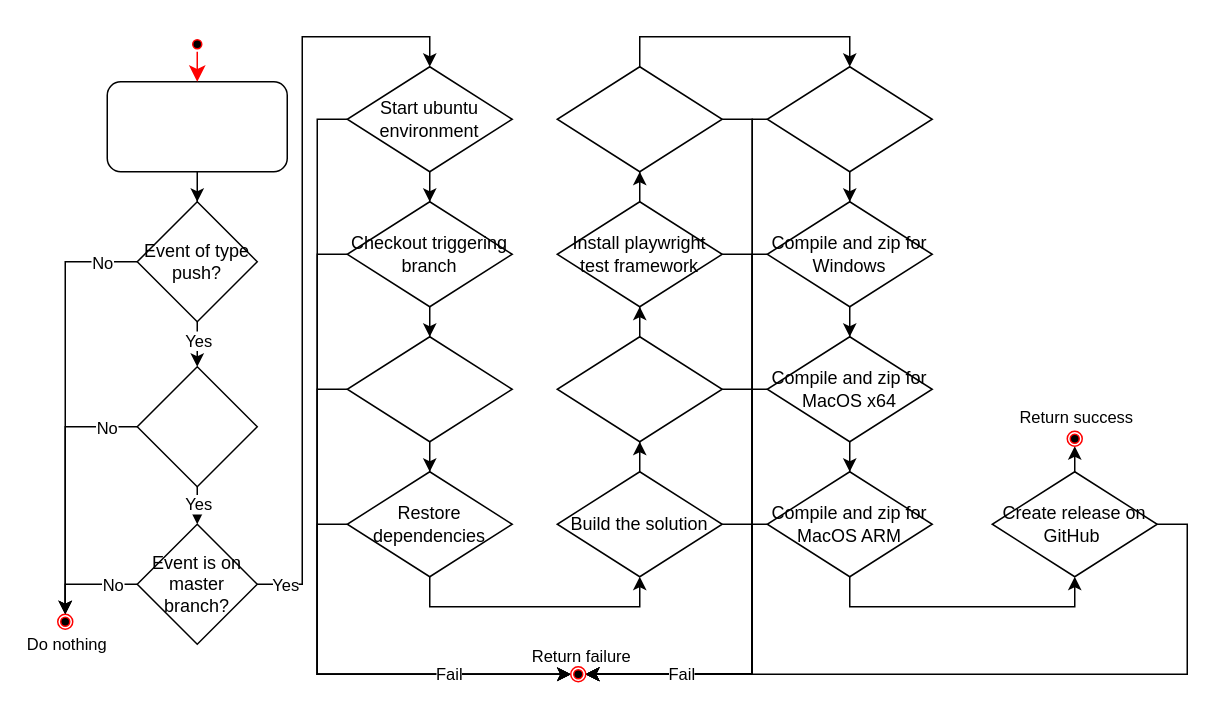
Some shapes in this 1226 by 713 pixel diagram are drawn without their labels. Each missing label, with the centre of its shape:
Compile and zip for Linux: the point at 849,118
Contains tag of format "v*.*.*"?: the point at 196,426
Event that triggers workflows: the point at 196,126
Run solution on localhost: the point at 639,388
Run tests: the point at 639,118
Setup .NET 8: the point at 429,388
